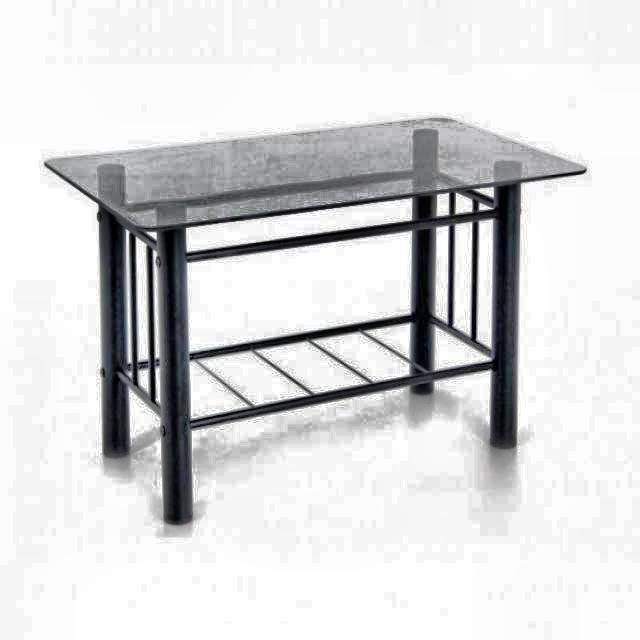mesa: (36, 101, 609, 533)
